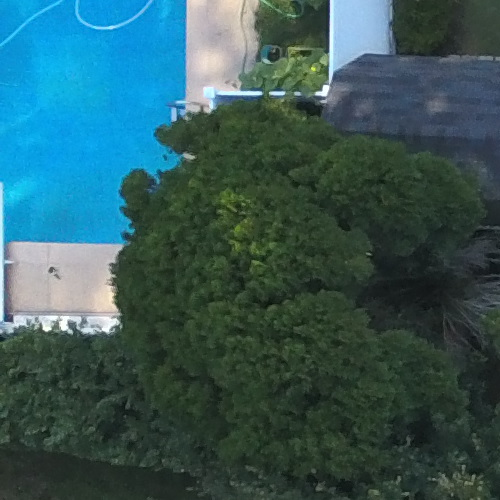container: (259, 41, 290, 67)
